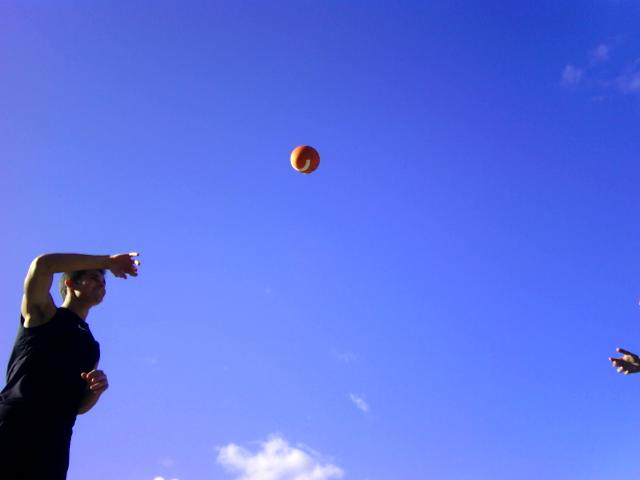football: (288, 147, 323, 178)
